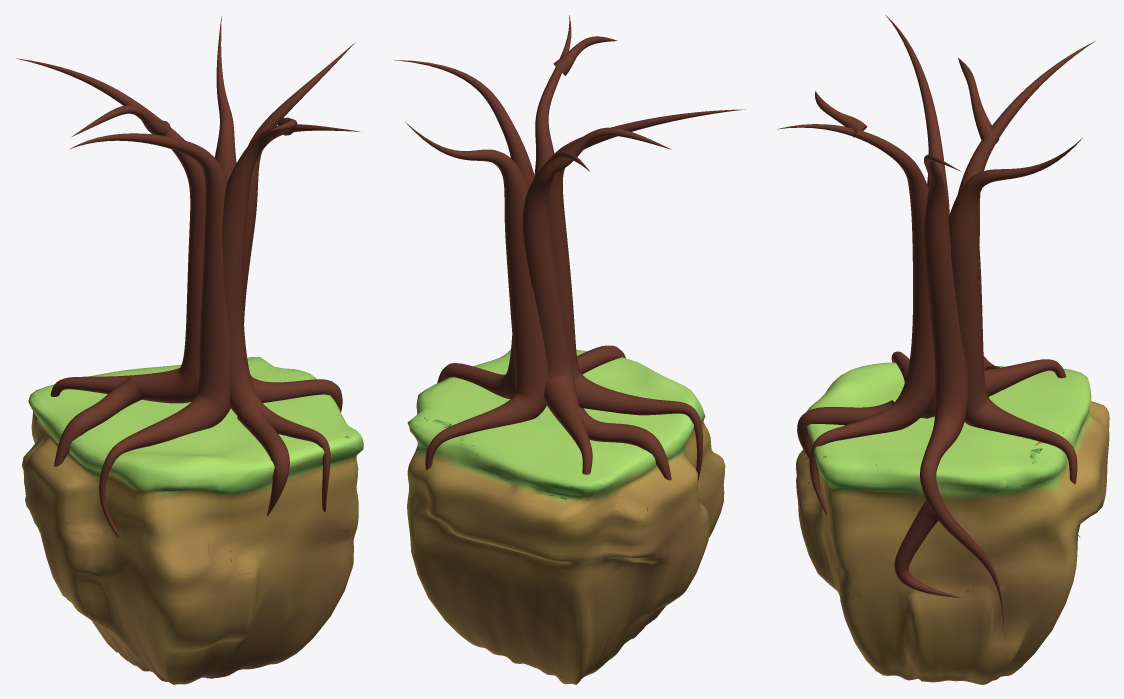
File: floating tree1.fbx
3 renders of one model, left to right at view 1: azimuth 30°, elevation 25°; view 2: azimuth 150°, elevation 25°; view 3: azimuth 270°, elevation 25°, orthographic. The views are drawn at different scales.
Visible parts, largest first — view 1: Plane.002, NurbsPath.001; view 2: Plane.002, NurbsPath.001; view 3: Plane.002, NurbsPath.001.
Part boxes in pixels (left/top/right/bottom): Plane.002: left=22, top=356, right=363, bottom=684; NurbsPath.001: left=16, top=16, right=359, bottom=537; Plane.002: left=407, top=349, right=725, bottom=684; NurbsPath.001: left=394, top=15, right=745, bottom=576; Plane.002: left=796, top=362, right=1109, bottom=684; NurbsPath.001: left=777, top=14, right=1095, bottom=637.
Size of the model in its own units: 416 by 712 by 372.
2 materials, 1 textured.
